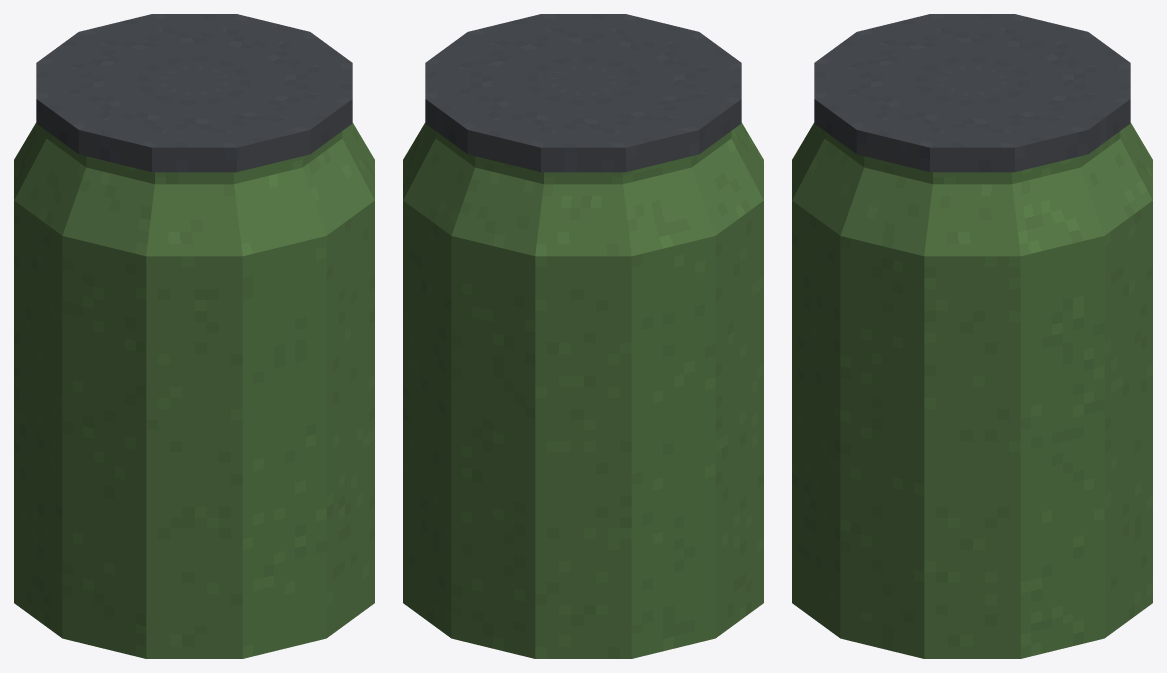
The model's file is bottle_plastic_pill_supplement.glb.
3 views of the same model, side by side, from view 1: azimuth 30°, elevation 25°; view 2: azimuth 150°, elevation 25°; view 3: azimuth 270°, elevation 25° (orthographic).
Parts seen in each view (by area): view 1: block_walls, block_rim or cap, block_shoulder, block_foot, block_neck; view 2: block_walls, block_rim or cap, block_shoulder, block_foot, block_neck; view 3: block_walls, block_rim or cap, block_shoulder, block_foot, block_neck.
Part boxes in pixels (x1,y1,x2,y2): block_walls: [14, 200, 374, 658]; block_rim or cap: [36, 14, 352, 172]; block_shoulder: [14, 123, 374, 256]; block_foot: [14, 597, 372, 658]; block_neck: [46, 131, 342, 184]; block_walls: [403, 200, 763, 658]; block_rim or cap: [425, 14, 741, 172]; block_shoulder: [403, 123, 763, 256]; block_foot: [403, 598, 760, 658]; block_neck: [435, 131, 731, 184]; block_walls: [792, 200, 1152, 658]; block_rim or cap: [814, 14, 1130, 172]; block_shoulder: [792, 123, 1152, 256]; block_foot: [792, 596, 1152, 658]; block_neck: [824, 131, 1120, 184].
Size of the model in its own units: 0.0863 by 0.1325 by 0.0863.
1 material, 1 textured.
